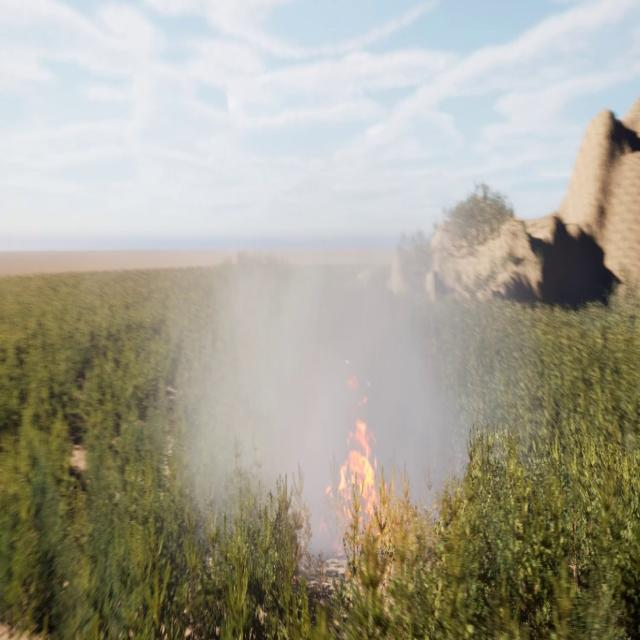fire: (331, 353, 400, 581)
smoke: (158, 138, 544, 566)
